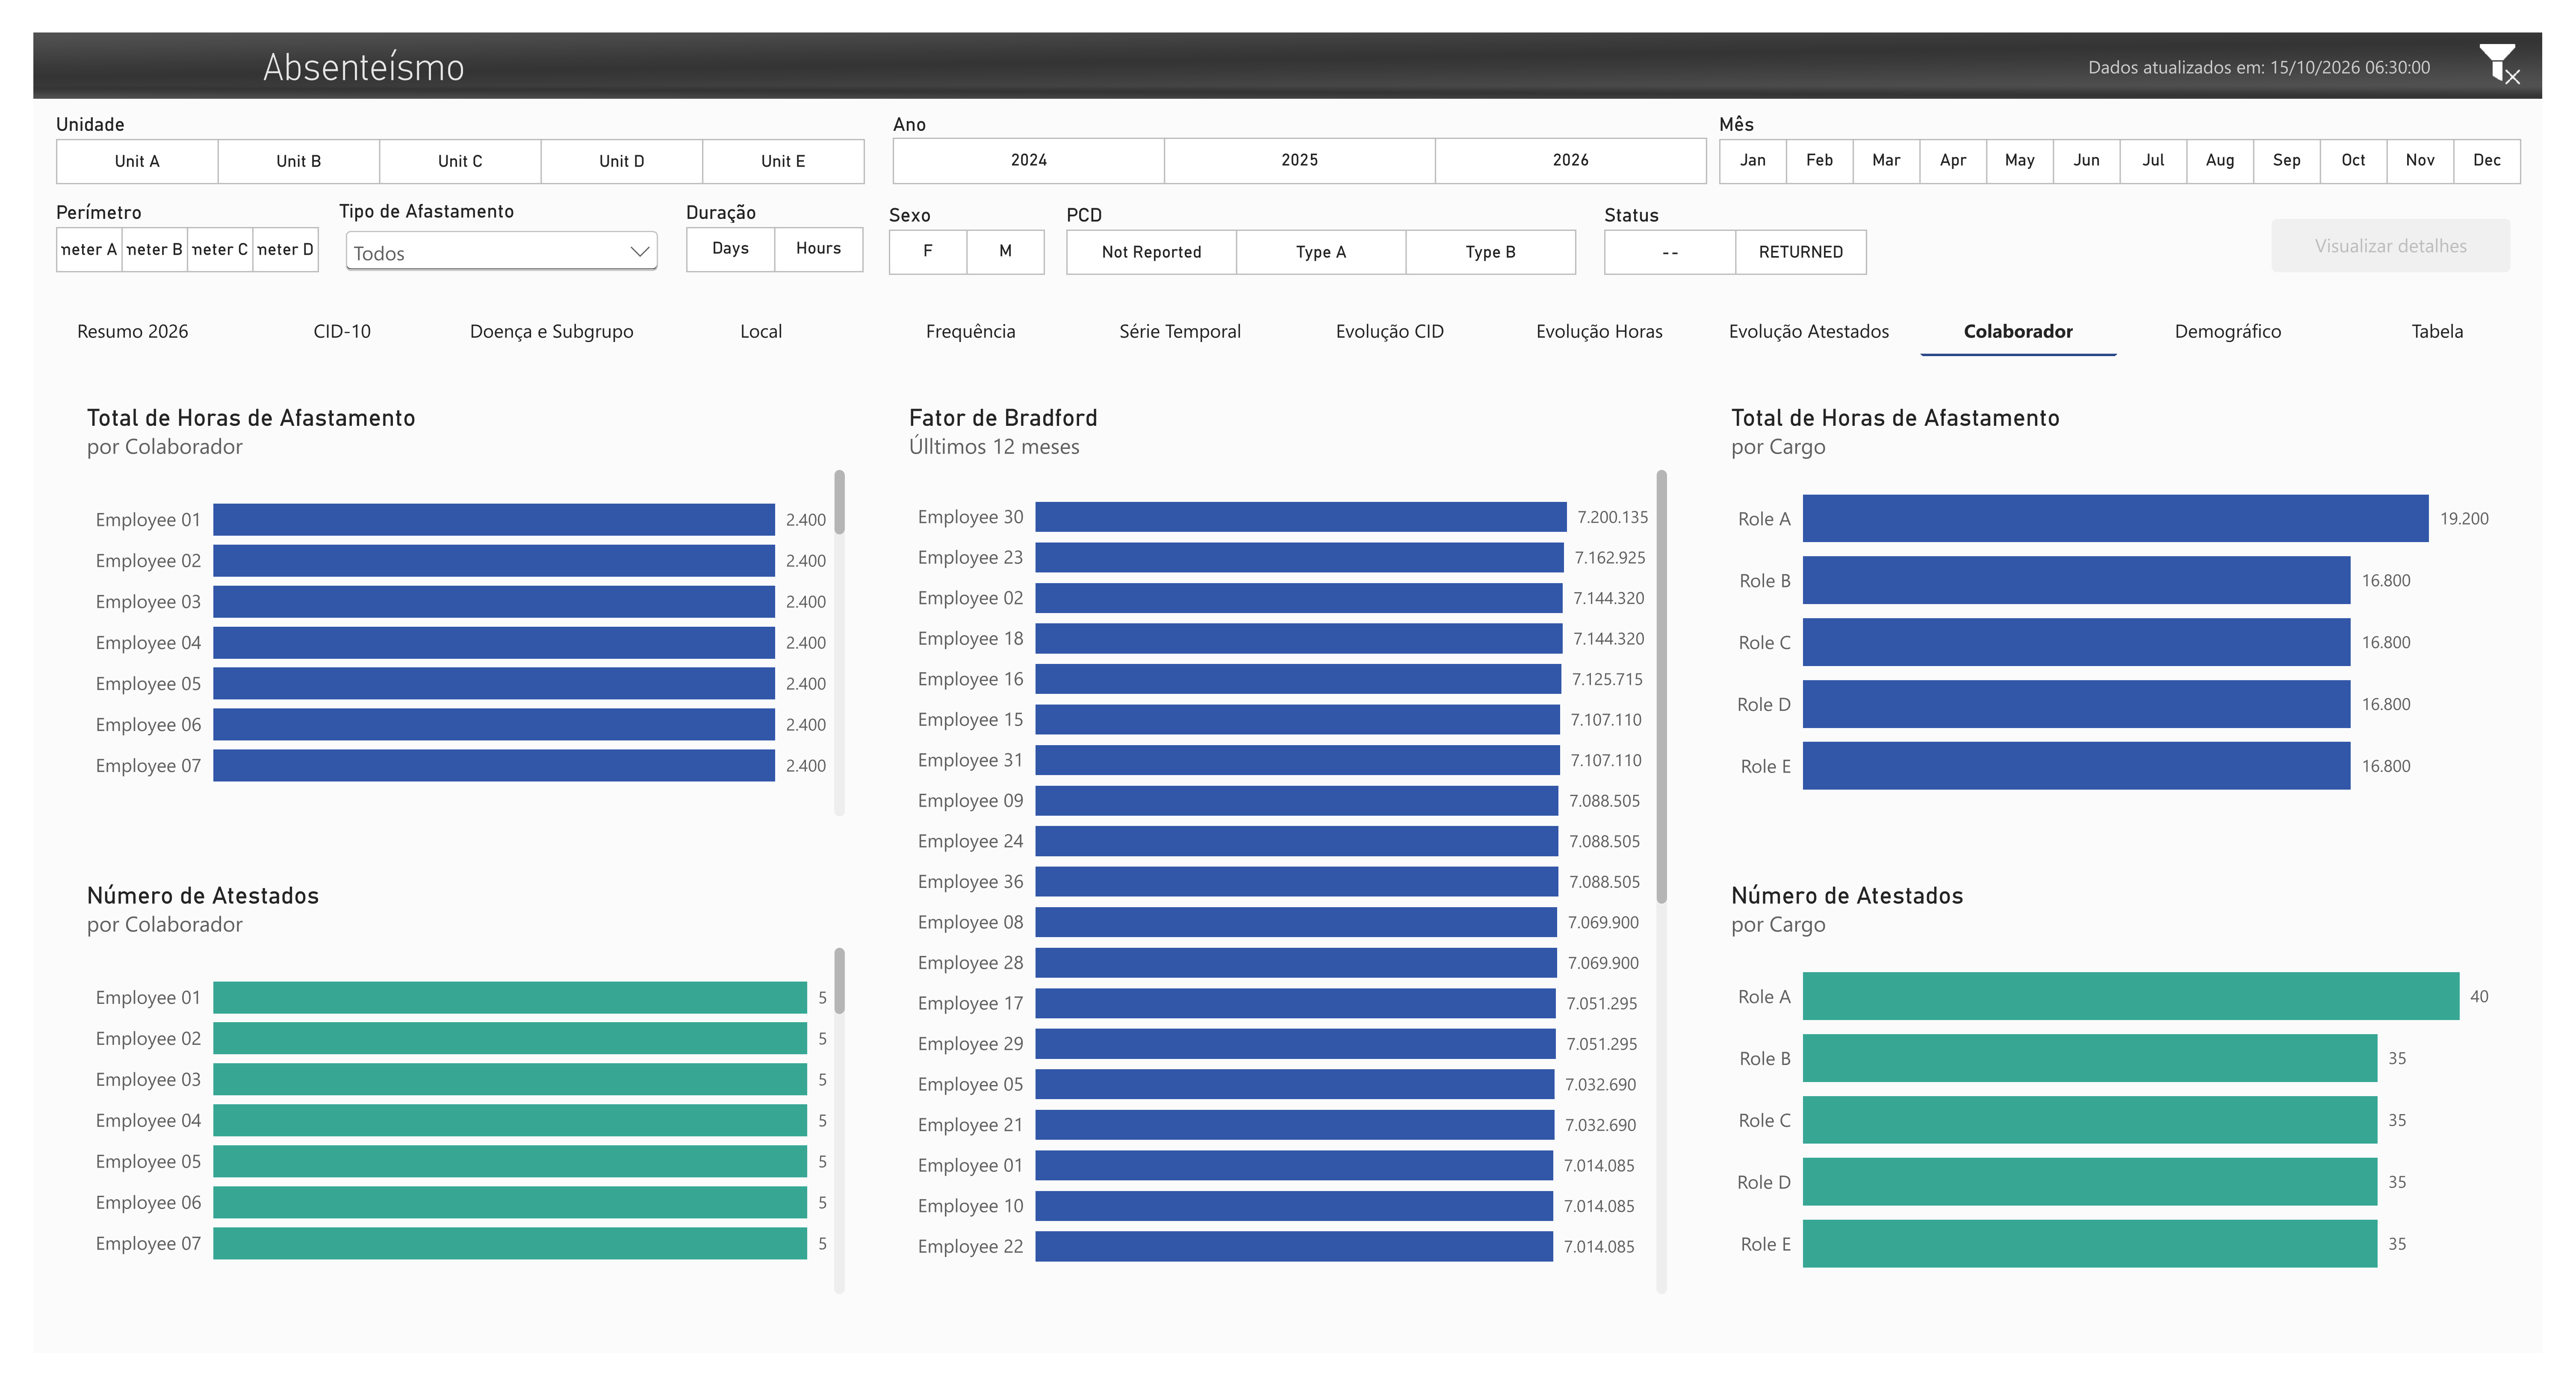

Layout of this report page (visuals, bound fields, positions):
{"tool":"powerbi","page":{"name":"Colaborador","canvas":[1880,990],"ordinal":9},"visuals":[{"type":"barChart","fields":{"Category":["d_colab.nome_colaborador"],"Y":["Medidas.Total de Horas de Afastamento"]},"box":[23.8,264,600,340],"z":0},{"type":"barChart","fields":{"Category":["d_colab.Cargo"],"Y":["Medidas.Total de Horas de Afastamento"]},"box":[1256.2,264,600,340],"z":1000},{"type":"barChart","fields":{"Category":["d_colab.Colaborador"],"Y":["CountNonNull(f_abs.id_atestado)"]},"box":[23.8,622,600,340],"z":2000},{"type":"barChart","fields":{"Category":["d_colab.Cargo"],"Y":["CountNonNull(f_abs.id_atestado)"]},"box":[1256.2,622,600,340],"z":3000},{"type":"barChart","title":"Fator de Bradford","fields":{"Category":["d_colab.Colaborador"],"Y":["Medidas.Bradford Dias"]},"box":[640,264,600,698],"z":4000},{"type":"image","box":[0,0,1880,50],"z":5000},{"type":"pageNavigator","box":[0,205,1880,37.5],"z":6000},{"type":"textbox","box":[172.5,8.5,300.6,33],"z":8000},{"type":"cardVisual","fields":{"Data":["Medidas.Ultima Atualizacao Pipeline"]},"box":[1510.1,8.9,301.5,32.9],"z":9000},{"type":"image","box":[1828.9,9.4,36.7,30],"z":10000},{"type":"advancedSlicerVisual","title":"Sexo","fields":{"Values":["d_colab.desc_sexo"]},"box":[641.4,128.6,116.1,53],"z":10001},{"type":"advancedSlicerVisual","title":"Unidade","fields":{"Values":["f_abs.nome_unidade"]},"box":[17.1,61.4,610,52.9],"z":10002},{"type":"advancedSlicerVisual","title":"Mês","fields":{"Values":["d_calendario.nome_mes_abrev"]},"box":[1262.9,61.4,611.4,52.9],"z":10003},{"type":"advancedSlicerVisual","title":"Duração","fields":{"Values":["f_abs.flg_tipo_duracao"]},"box":[489,126.7,134.3,53.2],"z":10004},{"type":"advancedSlicerVisual","title":"PCD","fields":{"Values":["d_colab.desc_class_deficiencia"]},"box":[774.3,128.6,381.4,53],"z":10005},{"type":"slicer","title":"Tipo de Afastamento","fields":{"Values":["f_abs.desc_motivo_licenca"]},"box":[228.6,125.7,244.3,53],"z":10006},{"type":"advancedSlicerVisual","title":"Ano","fields":{"Values":["f_abs.ano_afastamento"]},"box":[643.8,61.2,610,52.5],"z":10007},{"type":"advancedSlicerVisual","title":"Perímetro","fields":{"Values":["d_colab.nome_perimetro"]},"box":[17.1,127.1,198.6,53],"z":10008},{"type":"advancedSlicerVisual","title":"Status","fields":{"Values":["f_abs.Status"]},"box":[1177.1,128.6,198,53],"z":10009},{"type":"actionButton","box":[1677.1,140,178.6,40],"z":10010}]}

Visuals, with their boxes on the page's 1880x990 design canvas (x1, y1, x2, y2). These are canvas units, not pixel positions in the 2576x1386 screenshot, which may show the page scaled, cropped or inside an application window:
barChart - d_colab.nome_colaborador x Medidas.Total de Horas de Afastamento: 24 264 624 604
barChart - d_colab.Cargo x Medidas.Total de Horas de Afastamento: 1256 264 1856 604
barChart - d_colab.Colaborador x CountNonNull(f_abs.id_atestado): 24 622 624 962
barChart - d_colab.Cargo x CountNonNull(f_abs.id_atestado): 1256 622 1856 962
"Fator de Bradford" barChart: 640 264 1240 962
image: 0 0 1880 50
pageNavigator: 0 205 1880 242
textbox: 172 8 473 42
cardVisual - Medidas.Ultima Atualizacao Pipeline: 1510 9 1812 42
image: 1829 9 1866 39
"Sexo" advancedSlicerVisual: 641 129 758 182
"Unidade" advancedSlicerVisual: 17 61 627 114
"Mês" advancedSlicerVisual: 1263 61 1874 114
"Duração" advancedSlicerVisual: 489 127 623 180
"PCD" advancedSlicerVisual: 774 129 1156 182
"Tipo de Afastamento" slicer: 229 126 473 179
"Ano" advancedSlicerVisual: 644 61 1254 114
"Perímetro" advancedSlicerVisual: 17 127 216 180
"Status" advancedSlicerVisual: 1177 129 1375 182
actionButton: 1677 140 1856 180
